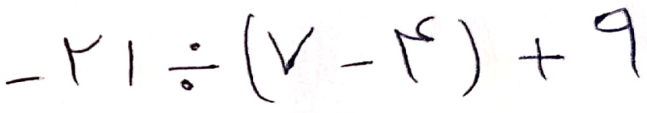character: (592, 6, 642, 80), (392, 15, 437, 85), (166, 40, 220, 93), (267, 23, 315, 77), (242, 12, 268, 100), (62, 34, 102, 87), (456, 17, 482, 98), (519, 35, 563, 81), (3, 73, 46, 87), (126, 39, 136, 88), (339, 59, 373, 71)
